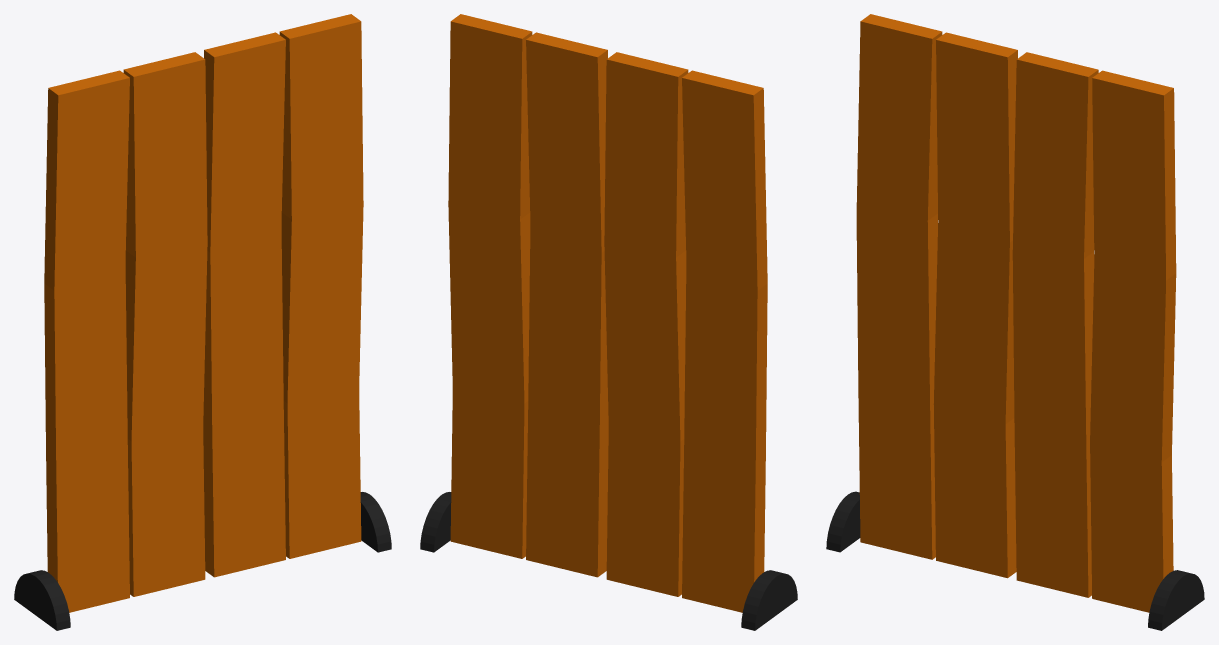
Rendered from passerelle.glb.
3 views of the same model, side by side, from view 1: azimuth 30°, elevation 25°; view 2: azimuth 150°, elevation 25°; view 3: azimuth 330°, elevation 25° (orthographic).
Parts seen in each view (by area): view 1: Cube, Cylinder.001, Cylinder; view 2: Cube, Cylinder.001, Cylinder; view 3: Cube, Cylinder, Cylinder.001.
Boxes of the visible parts, x1,y1,x2,y2 form: Cube: (44, 14, 363, 612); Cylinder.001: (14, 570, 70, 630); Cylinder: (360, 492, 391, 552); Cube: (448, 14, 767, 612); Cylinder.001: (741, 570, 797, 630); Cylinder: (420, 492, 451, 552); Cube: (856, 14, 1176, 612); Cylinder: (1148, 570, 1204, 630); Cylinder.001: (826, 491, 860, 552).
Bounding box in the file's own units: 3.71 × 5.5 × 0.8202.
1 material, 1 textured.
